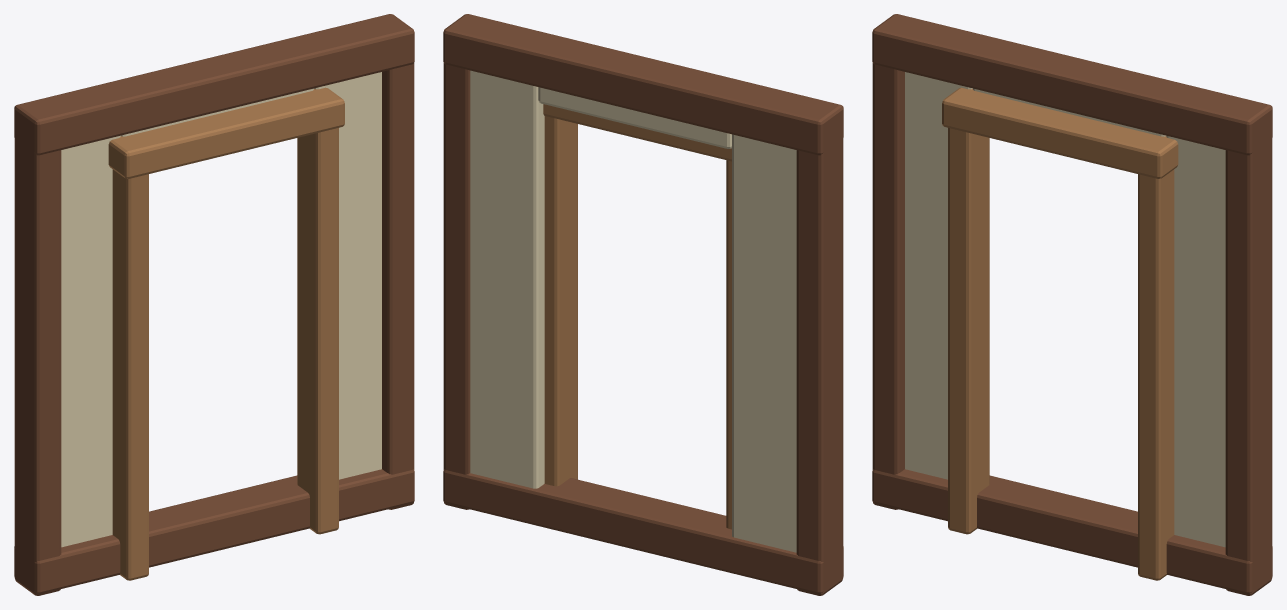
The model's file is wall_passage_2m.glb.
3 renders of one model, left to right at view 1: azimuth 30°, elevation 25°; view 2: azimuth 150°, elevation 25°; view 3: azimuth 330°, elevation 25°, orthographic.
Visible parts, largest first — view 1: wall_passage_2m__structure, wall_passage_2m__finish; view 2: wall_passage_2m__structure, wall_passage_2m__finish; view 3: wall_passage_2m__structure, wall_passage_2m__finish.
Boxes of the visible parts, x1,y1,x2,y2 form: wall_passage_2m__structure: (14,14,414,595); wall_passage_2m__finish: (61,72,381,547); wall_passage_2m__structure: (443,14,843,595); wall_passage_2m__finish: (470,70,796,552); wall_passage_2m__structure: (872,14,1272,595); wall_passage_2m__finish: (905,72,1225,547).
Bounding box in the file's own units: 2 × 2.4 × 0.31.
